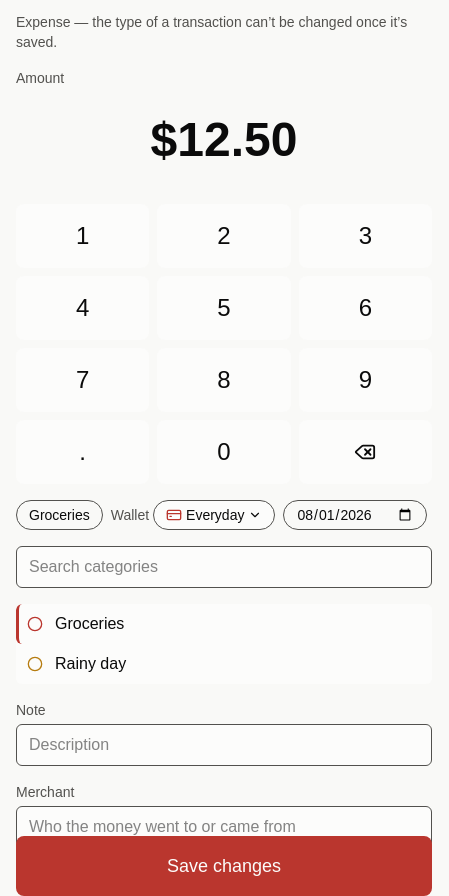
Scenario: TransactionForm — moving a transaction between wallets › offers the other same-currency wallet as a destination
Click the button named "Wallet Everyday" at (214, 515), box 153,500 -> 276,530
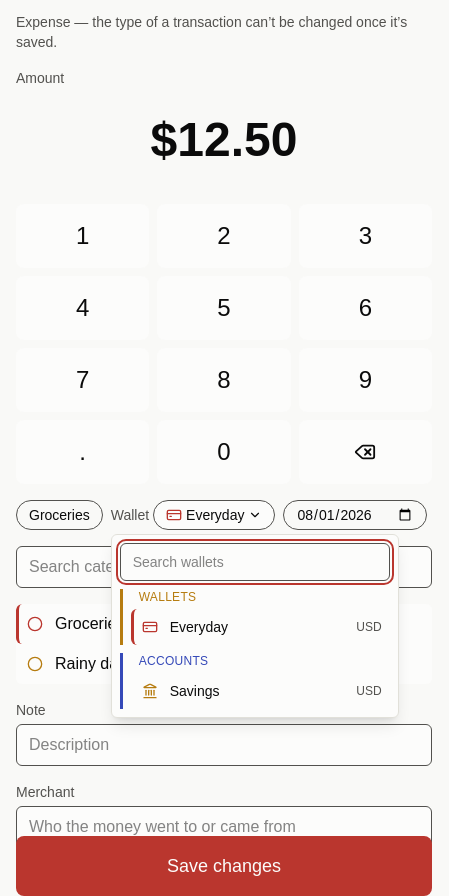
Result: the button "Savings USD" is shown at 131,673 -> 390,709
